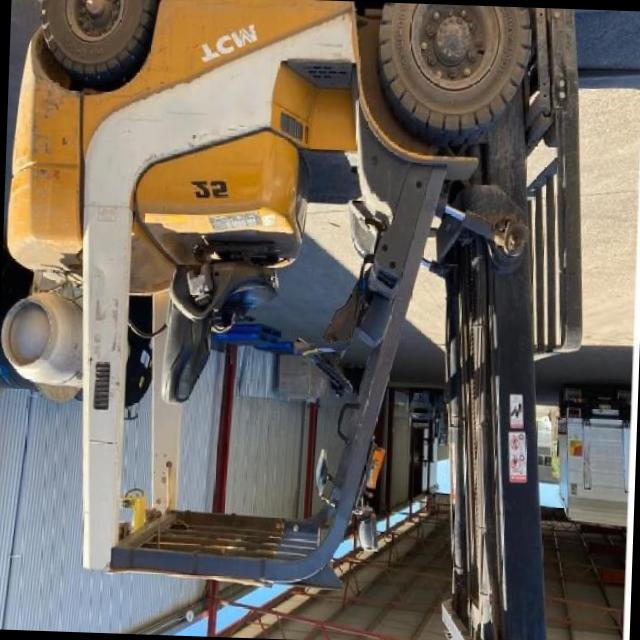forklift: (0, 0, 607, 638)
